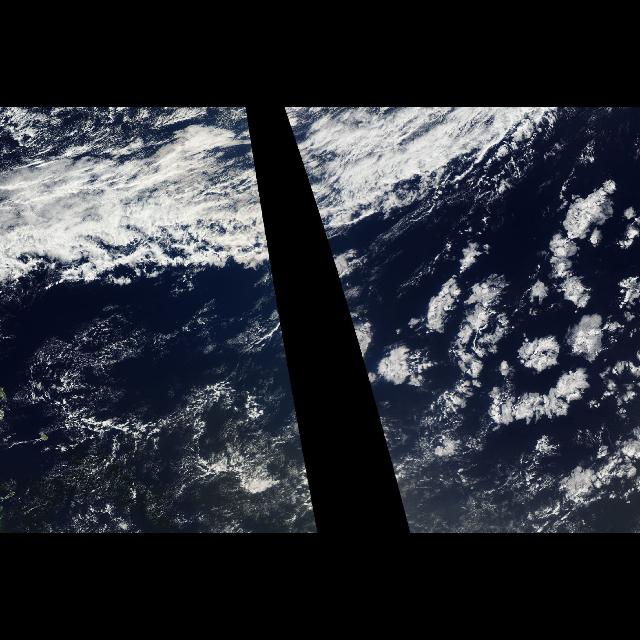Flower: (316, 158, 640, 516)
Gravel: (25, 318, 288, 500)
Sugar: (1, 292, 317, 534)
